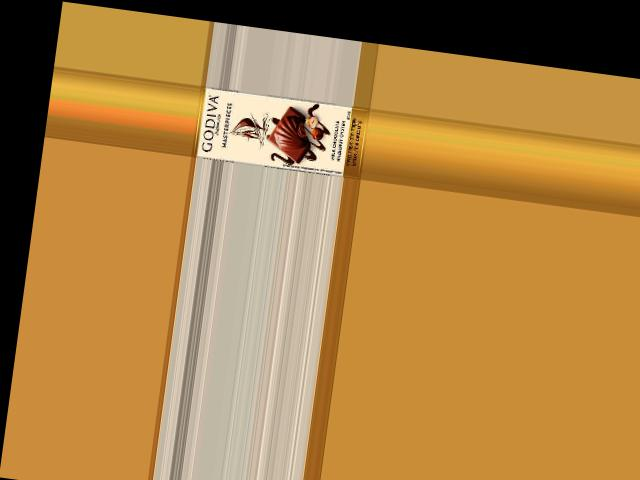chocolate: (191, 85, 369, 178)
